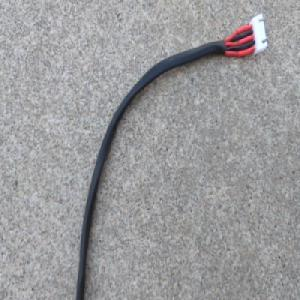Wire: (75, 10, 269, 300)
